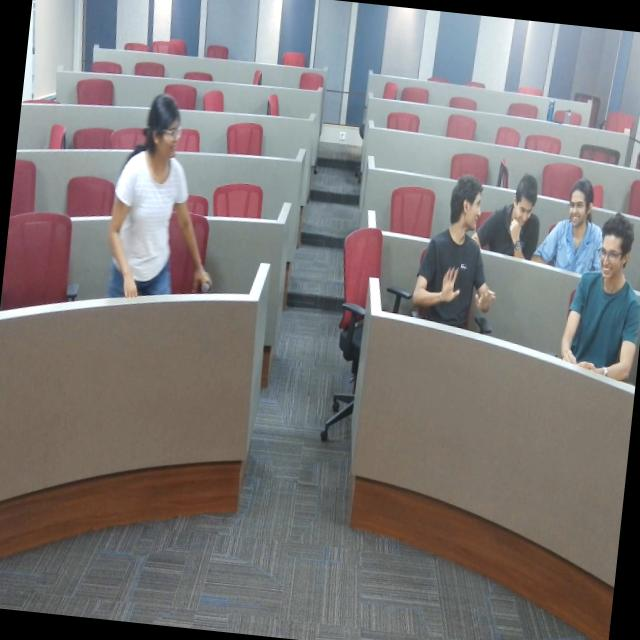cheating: (408, 182, 510, 364), (560, 219, 640, 395), (535, 166, 607, 284), (486, 165, 543, 268)
